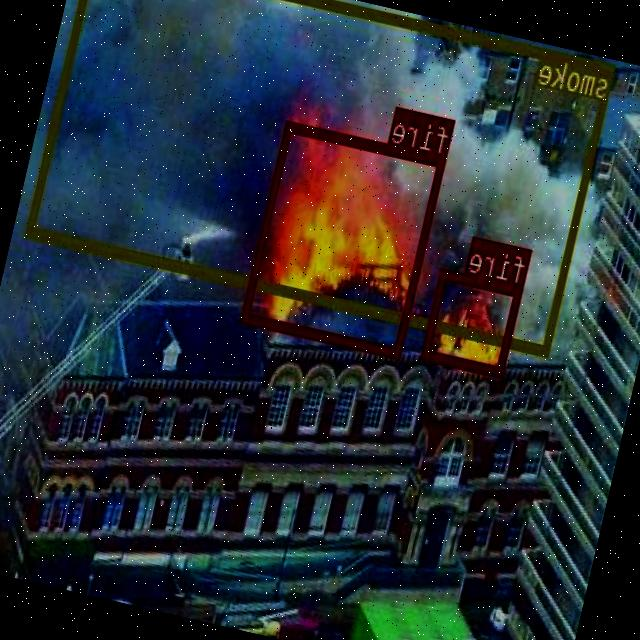fire: (242, 120, 447, 356), (421, 266, 525, 376)
smoke: (27, 0, 617, 354)
